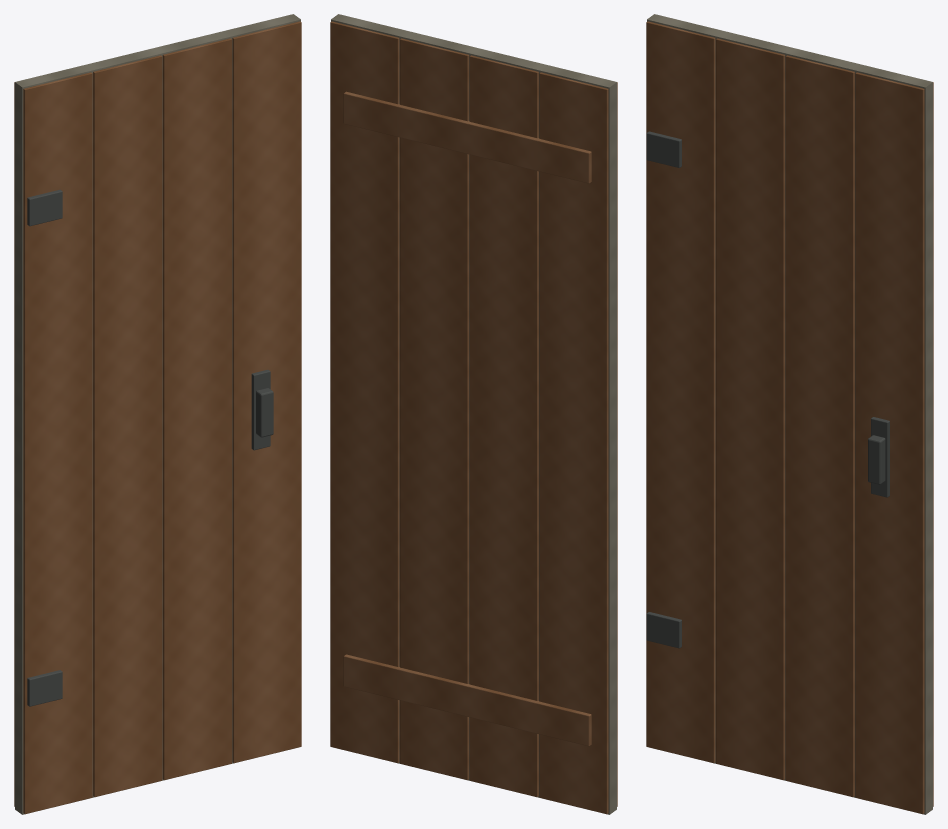
File: MRP_WindowShutter_Double_Left.fbx
3 views of the same model, side by side, from view 1: azimuth 30°, elevation 25°; view 2: azimuth 150°, elevation 25°; view 3: azimuth 330°, elevation 25° (orthographic).
Parts seen in each view (by area): view 1: MRP_WindowShutter_Double_Left_Hinge_Mesh; view 2: MRP_WindowShutter_Double_Left_Hinge_Mesh; view 3: MRP_WindowShutter_Double_Left_Hinge_Mesh.
Part boxes in pixels (x1=…): MRP_WindowShutter_Double_Left_Hinge_Mesh: x1=14, y1=14, x2=301, y2=814; MRP_WindowShutter_Double_Left_Hinge_Mesh: x1=330, y1=14, x2=617, y2=814; MRP_WindowShutter_Double_Left_Hinge_Mesh: x1=646, y1=14, x2=933, y2=814.
Size of the model in its own units: 0.425 by 1.06 by 0.054.
